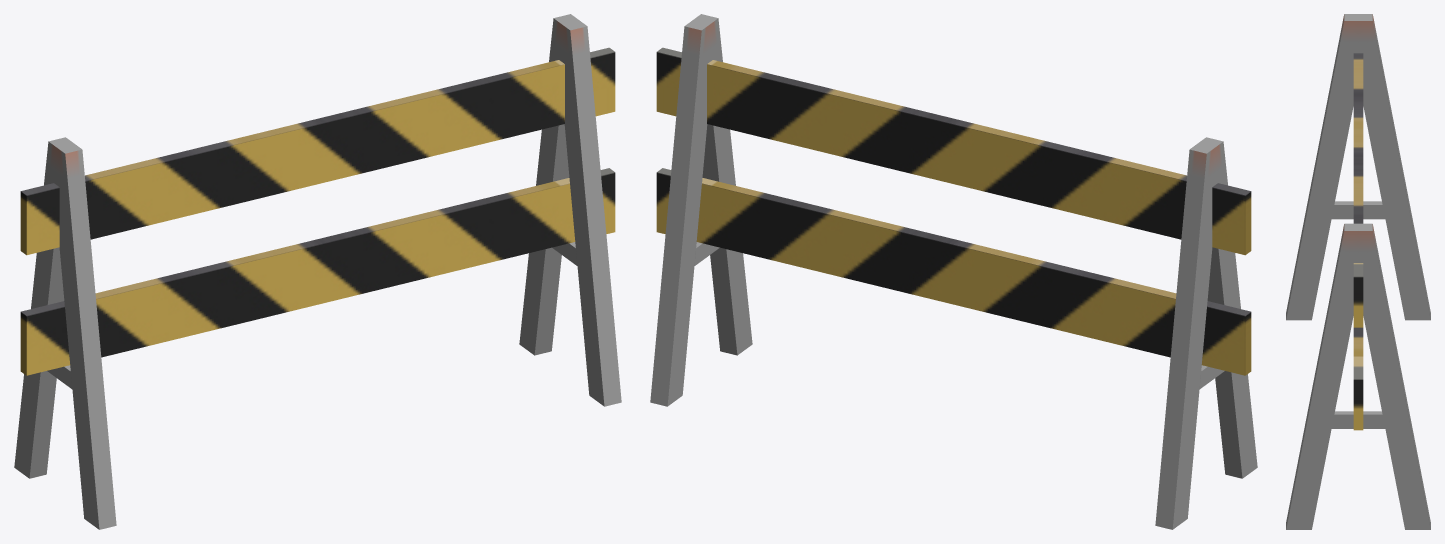
File: scp_ep_barrier_02.fbx
3 views of the same model, side by side, from view 1: azimuth 30°, elevation 25°; view 2: azimuth 150°, elevation 25°; view 3: azimuth 270°, elevation 25° (orthographic). The views are drawn at different scales.
Parts seen in each view (by area): view 1: scp_ep_barrier_02; view 2: scp_ep_barrier_02; view 3: scp_ep_barrier_02.
Boxes of the visible parts, x1=… form: scp_ep_barrier_02: x1=14, y1=14, x2=621, y2=529; scp_ep_barrier_02: x1=650, y1=14, x2=1257, y2=529; scp_ep_barrier_02: x1=1286, y1=14, x2=1430, y2=529.
Size of the model in its own units: 2.66 by 1.52 by 0.6668.
